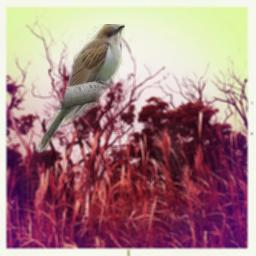Cuckoo: (37, 24, 125, 154)
